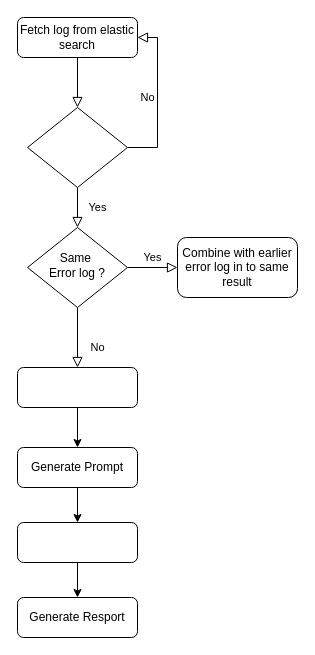
The diagram is 315 pixels wide and 655 high, and some of its shapes have lost their labels. The centre of each missing label's shape, as x and y in pixels:
Analyze error reason: the point at 77,542
Get more relevant logs: the point at 77,387
Is error: the point at 77,147
